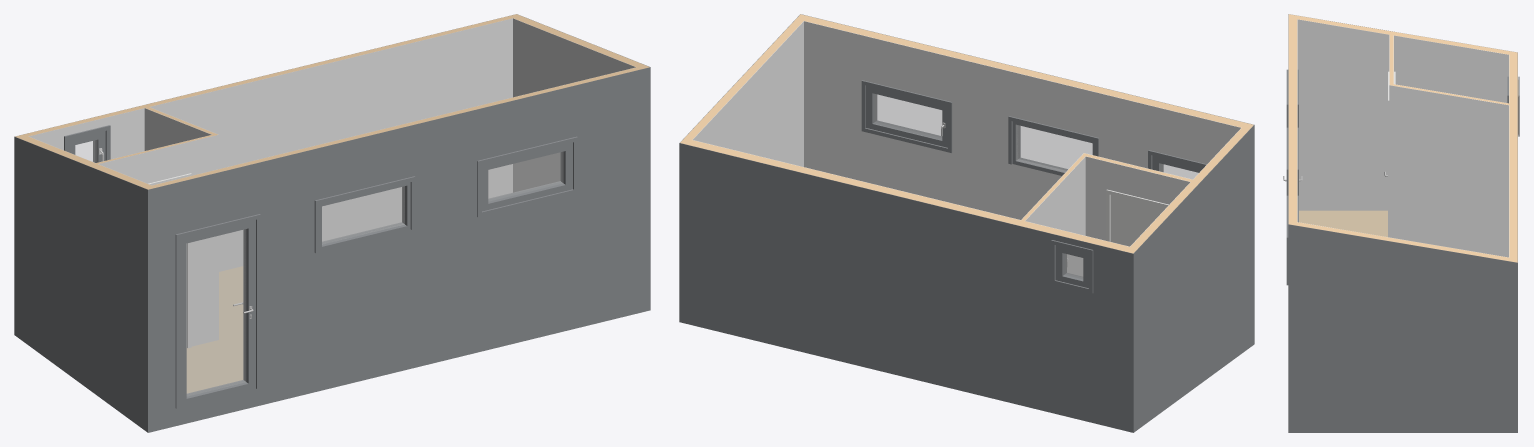
The model's file is Airija_futbolo aikstele_(3,0x6,5m)_R00.fbx.
3 views of the same model, side by side, from view 1: azimuth 30°, elevation 25°; view 2: azimuth 150°, elevation 25°; view 3: azimuth 270°, elevation 25° (orthographic). The views are drawn at different scales.
Parts seen in each view (by area): view 1: IfcWall/Part:2319977, IfcWall/Part:2397154, IfcWall/Part:2368366, IfcDoor/Exterior door:1000x2100x120 (kairinės):2439432, IfcWall/Part:2568958, IfcWall/Part:2569024, IfcWindow/Langai (Akrusta):1200x600x120 (kairinis):2565735, IfcWindow/Langai (Akrusta):1200x600x120:2409843, IfcSlab/Part:2319985, IfcWall/Part:2397156, IfcWall/Part:2319978, IfcWall/Part:2569020 (+4 smaller); view 2: IfcWall/Part:2397155, IfcWall/Part:2319976, IfcWall/Part:2368366, IfcWall/Part:2568958, IfcWindow/Langai (Akrusta):1200x600x120 (kairinis):2565735, IfcWall/Part:2569023, IfcWindow/Langai (Akrusta):1200x600x120:2409843, IfcWall/Part:2319978, IfcWall/Part:2397156, IfcWall/Part:2569020, IfcDoor/Interior door:800x2100 x 120 (kairinės):2566125, IfcWindow/Langai (Akrusta):500 x 500 x 120:2565378 (+4 smaller); view 3: IfcWall/Part:2568959, IfcWall/Part:2368365, IfcWall/Part:2569021, IfcWall/Part:2319978, IfcWall/Part:2397156, IfcSlab/Part:2319985, IfcWall/Part:2368367, IfcWall/Part:2568960, IfcWall/Part:2319977, IfcWall/Part:2397155, IfcDoor/Interior door:800x2100 x 120 (kairinės):2566125, IfcWindow/Langai (Akrusta):1200x600x120:2409843 (+4 smaller).
Part boxes in pixels (x1,y1,x2,y2): IfcWall/Part:2319977: (148, 67, 650, 432); IfcWall/Part:2397154: (28, 18, 512, 271); IfcWall/Part:2368366: (14, 136, 147, 432); IfcDoor/Exterior door:1000x2100x120 (kairinės):2439432: (175, 214, 260, 408); IfcWall/Part:2568958: (513, 18, 635, 192); IfcWall/Part:2569024: (98, 135, 218, 346); IfcWindow/Langai (Akrusta):1200x600x120 (kairinis):2565735: (477, 136, 577, 217); IfcWindow/Langai (Akrusta):1200x600x120:2409843: (314, 176, 415, 253); IfcSlab/Part:2319985: (186, 266, 243, 393); IfcWall/Part:2397156: (15, 14, 521, 138); IfcWall/Part:2319978: (144, 65, 649, 189); IfcWall/Part:2569020: (144, 108, 211, 150); IfcWall/Part:2397155: (679, 143, 1133, 432); IfcWall/Part:2319976: (804, 21, 1241, 219); IfcWall/Part:2368366: (1133, 125, 1254, 432); IfcWall/Part:2568958: (692, 21, 803, 166); IfcWindow/Langai (Akrusta):1200x600x120 (kairinis):2565735: (861, 80, 952, 152); IfcWall/Part:2569023: (1085, 156, 1189, 240); IfcWindow/Langai (Akrusta):1200x600x120:2409843: (1008, 116, 1098, 175); IfcWall/Part:2319978: (796, 14, 1253, 129); IfcWall/Part:2397156: (680, 138, 1137, 253); IfcWall/Part:2569020: (1025, 156, 1085, 276); IfcDoor/Interior door:800x2100 x 120 (kairinės):2566125: (1106, 189, 1168, 246); IfcWindow/Langai (Akrusta):500 x 500 x 120:2565378: (1051, 240, 1093, 293); IfcWall/Part:2568959: (1288, 224, 1517, 432); IfcWall/Part:2368365: (1297, 19, 1508, 210); IfcWall/Part:2569021: (1389, 85, 1508, 257); IfcWall/Part:2319978: (1288, 14, 1297, 225); IfcWall/Part:2397156: (1509, 51, 1517, 262); IfcSlab/Part:2319985: (1299, 210, 1387, 236); IfcWall/Part:2368367: (1297, 15, 1509, 54); IfcWall/Part:2568960: (1297, 222, 1509, 260); IfcWall/Part:2319977: (1288, 14, 1288, 432); IfcWall/Part:2397155: (1517, 52, 1517, 432); IfcDoor/Interior door:800x2100 x 120 (kairinės):2566125: (1388, 71, 1395, 237); IfcWindow/Langai (Akrusta):1200x600x120:2409843: (1286, 127, 1298, 195).
Bounding box in the file's own units: 650 × 300 × 309.
